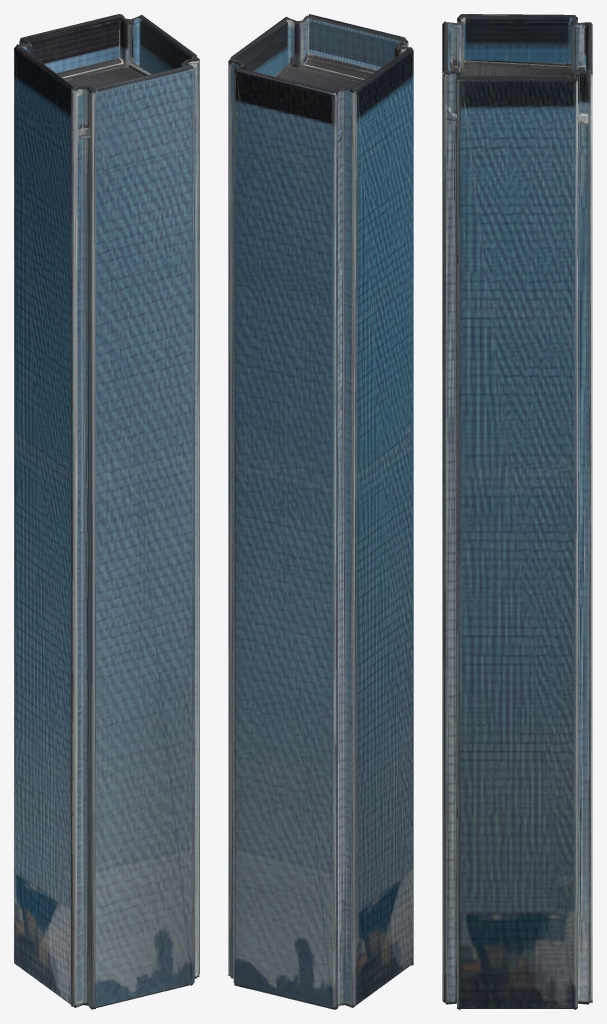
Rendered from narrow_tall_2.glb.
The picture shows the model from 3 angles, left to right: view 1: azimuth 30°, elevation 25°; view 2: azimuth 150°, elevation 25°; view 3: azimuth 270°, elevation 25°; orthographic projection.
Size of the model in its own units: 0.2779 by 1.91 by 0.2779.
Materials: 1 (1 with a texture image).
